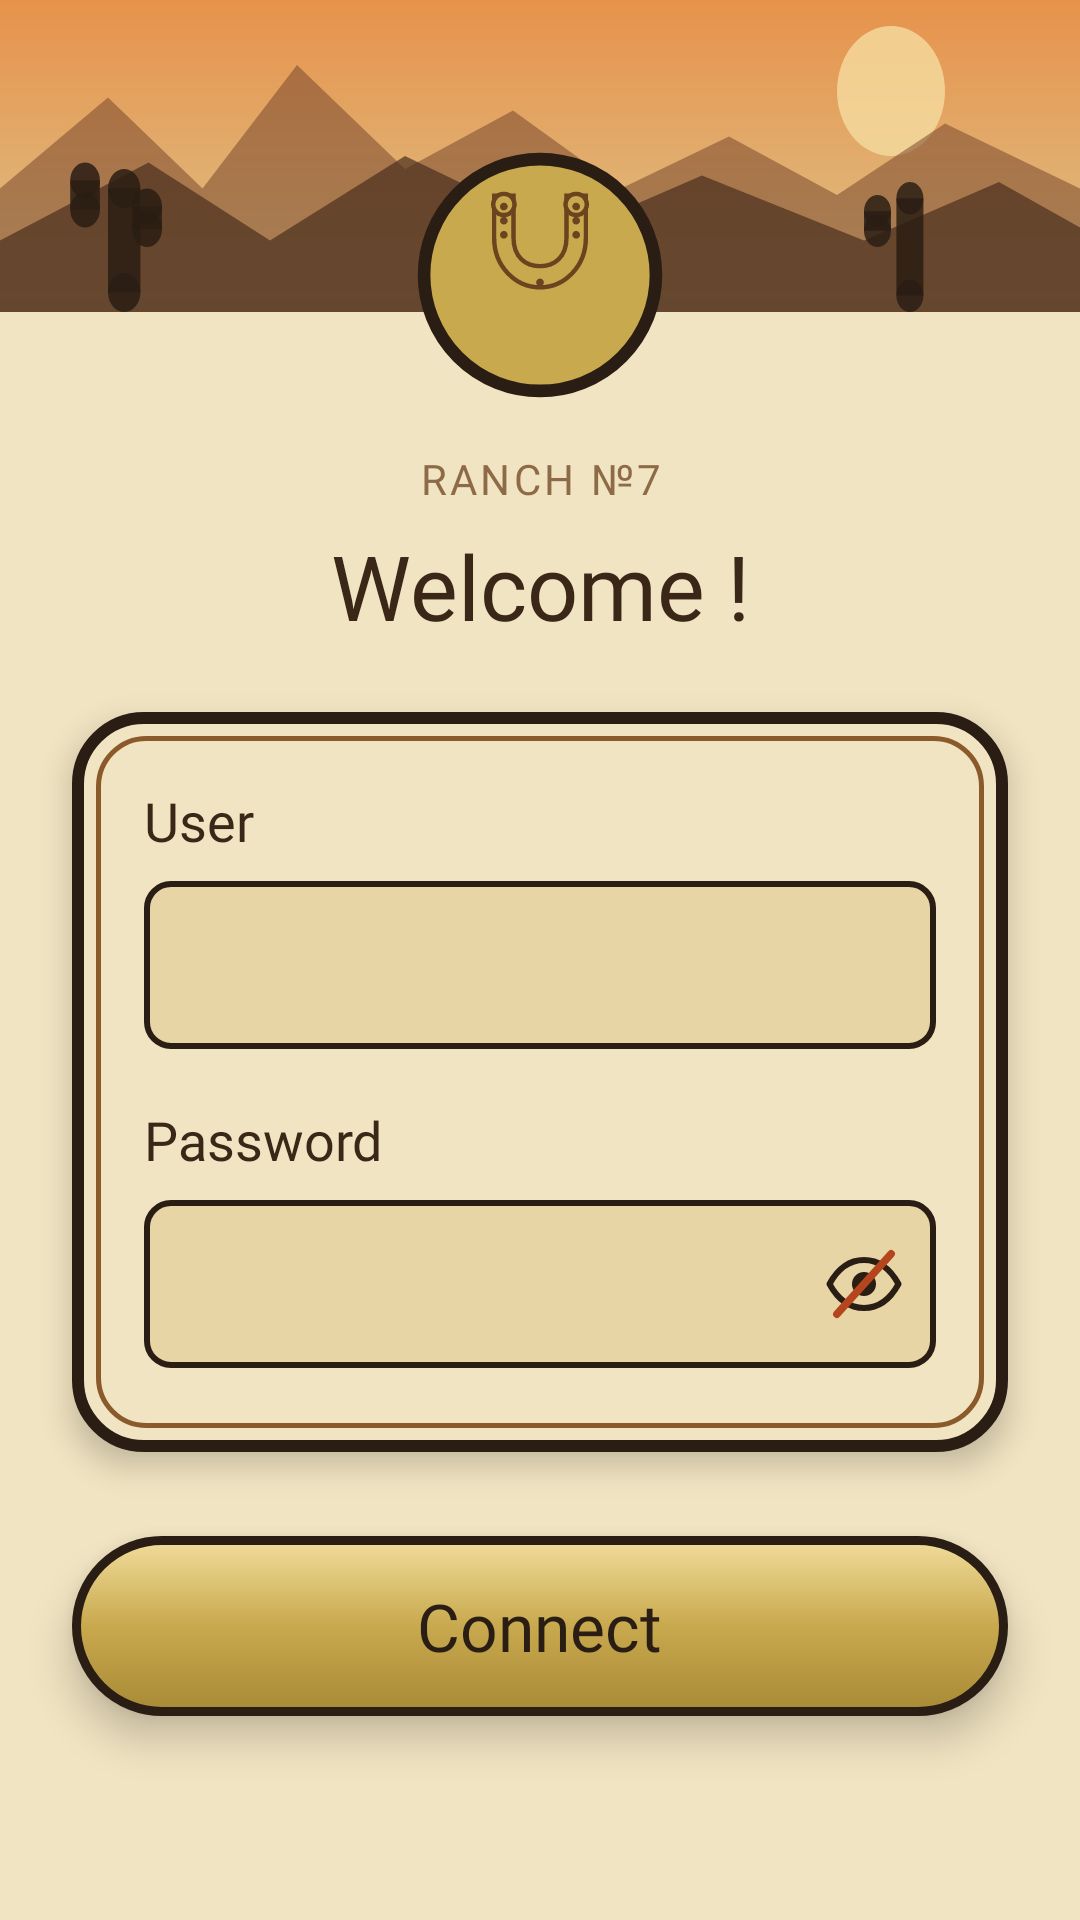

Named icons in this screenshot (1080px x 1920px) and their centers, [x,y]:
Show password: [864,1284]
